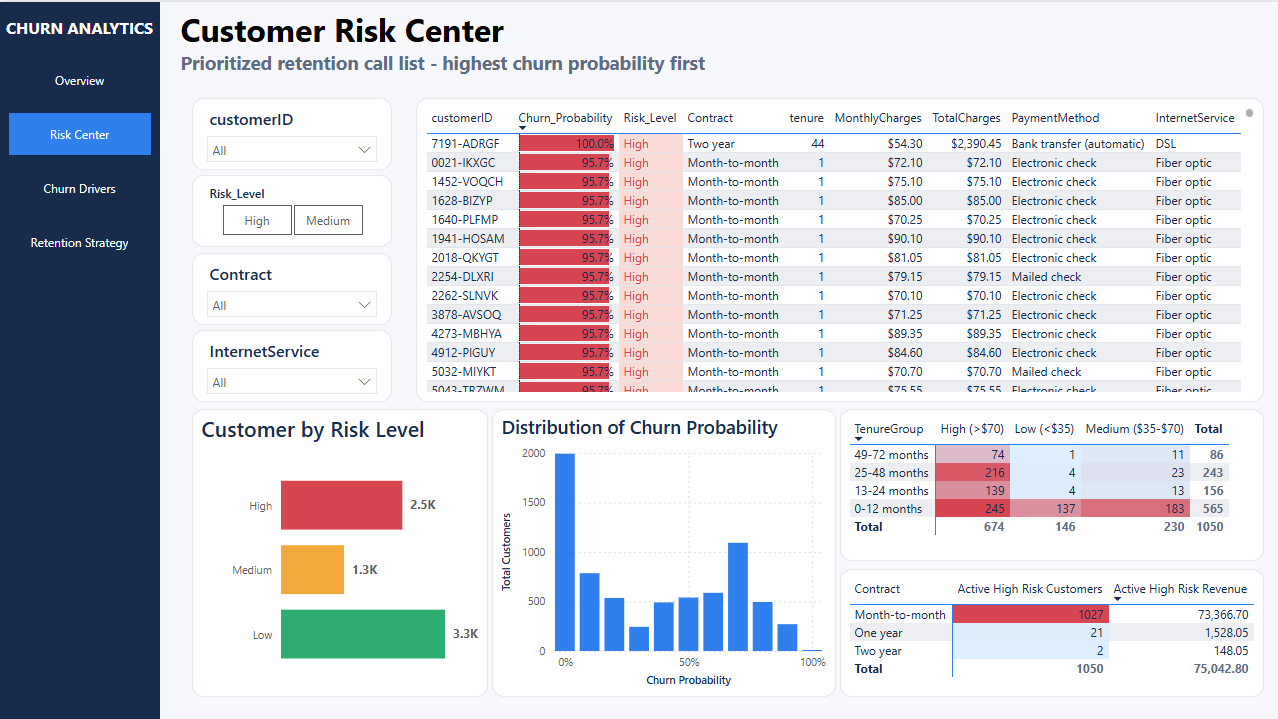

What the dashboard file says about the page in this screenshot:
{"tool":"powerbi","page":{"name":"Risk Center","canvas":[1280,720],"ordinal":1},"visuals":[{"type":"shape","box":[0,0,160,720],"z":0},{"type":"textbox","box":[0,10,160,64],"z":1000},{"type":"textbox","box":[176,0,752,80],"z":2000},{"type":"tableEx","fields":{"Values":["churn_predictions_powerbi.customerID","churn_predictions_powerbi.Churn_Probability","churn_predictions_powerbi.Risk_Level","churn_predictions_powerbi.Contract","churn_predictions_powerbi.tenure","churn_predictions_powerbi.MonthlyCharges","churn_predictions_powerbi.TotalCharges","churn_predictions_powerbi.PaymentMethod","churn_predictions_powerbi.InternetService"]},"box":[416,96,848,304],"z":3000},{"type":"clusteredBarChart","title":"Customer by Risk Level","fields":{"Category":["churn_predictions_powerbi.Risk_Level"],"Y":["_Measures.Total Customers"]},"box":[192,407.3,296,288],"z":4000},{"type":"columnChart","title":"Distribution of Churn Probability","fields":{"Category":["churn_predictions_powerbi.Churn_Probability Bins"],"Y":["_Measures.Total Customers"]},"box":[492,407,344,288],"z":5000},{"type":"pivotTable","fields":{"Rows":["churn_predictions_powerbi.TenureGroup"],"Columns":["churn_predictions_powerbi.MonthlyChargeGroup"],"Values":["_Measures.Active High Risk Customers"]},"box":[840,407,424,152],"z":6000},{"type":"slicer","fields":{"Values":["churn_predictions_powerbi.Risk_Level"]},"box":[192,173.3,200,72],"z":7000},{"type":"pivotTable","fields":{"Rows":["churn_predictions_powerbi.Contract"],"Values":["_Measures.Active High Risk Customers","_Measures.Active High Risk Revenue"]},"box":[840,567,424,128],"z":8000},{"type":"slicer","fields":{"Values":["churn_predictions_powerbi.Contract"]},"box":[192,250.7,200,72],"z":9000},{"type":"slicer","fields":{"Values":["churn_predictions_powerbi.InternetService"]},"box":[192,328,200,72],"z":10000},{"type":"slicer","fields":{"Values":["churn_predictions_powerbi.customerID"]},"box":[192,96,200,72],"z":11000},{"type":"pageNavigator","box":[8,56,144,208],"z":12000}]}

Visuals, with their boxes on the page's 1280x720 design canvas (x1, y1, x2, y2). These are canvas units, not pixel positions in the 1278x719 screenshot, which may show the page scaled, cropped or inside an application window:
shape: bbox=[0, 0, 160, 720]
textbox: bbox=[0, 10, 160, 74]
textbox: bbox=[176, 0, 928, 80]
tableEx - churn_predictions_powerbi.customerID x churn_predictions_powerbi.Churn_Probability: bbox=[416, 96, 1264, 400]
"Customer by Risk Level" clusteredBarChart: bbox=[192, 407, 488, 695]
"Distribution of Churn Probability" columnChart: bbox=[492, 407, 836, 695]
pivotTable - churn_predictions_powerbi.TenureGroup x churn_predictions_powerbi.MonthlyChargeGroup: bbox=[840, 407, 1264, 559]
slicer - churn_predictions_powerbi.Risk_Level: bbox=[192, 173, 392, 245]
pivotTable - churn_predictions_powerbi.Contract x _Measures.Active High Risk Customers: bbox=[840, 567, 1264, 695]
slicer - churn_predictions_powerbi.Contract: bbox=[192, 251, 392, 323]
slicer - churn_predictions_powerbi.InternetService: bbox=[192, 328, 392, 400]
slicer - churn_predictions_powerbi.customerID: bbox=[192, 96, 392, 168]
pageNavigator: bbox=[8, 56, 152, 264]
